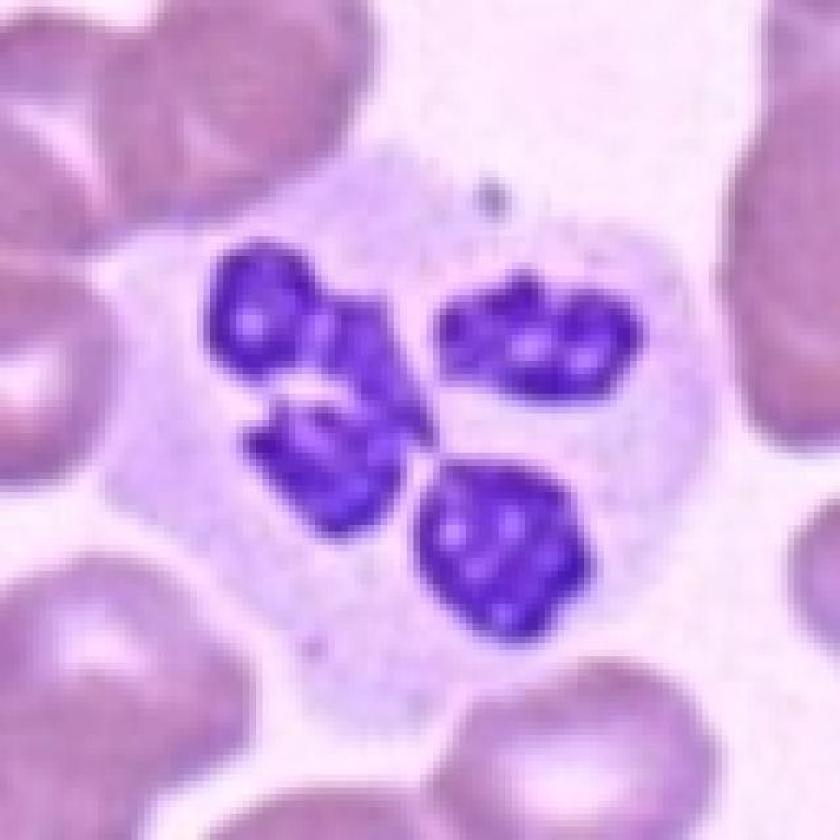neutrophil: (82, 134, 726, 734)
